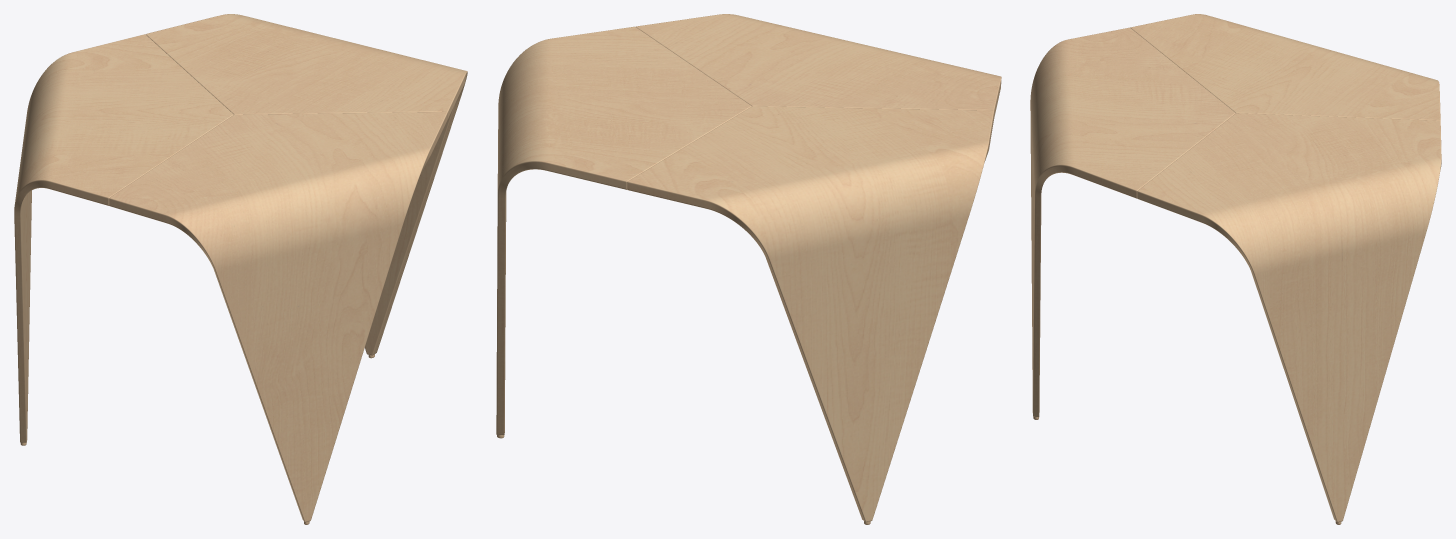
The model's file is ArtekTrienna.FBX.
3 renders of one model, left to right at view 1: azimuth 30°, elevation 25°; view 2: azimuth 150°, elevation 25°; view 3: azimuth 270°, elevation 25°, orthographic. The views are drawn at different scales.
Visible parts, largest first — view 1: TRIENNA TABLE; view 2: TRIENNA TABLE; view 3: TRIENNA TABLE.
Boxes of the visible parts, x1,y1,x2,y2 form: TRIENNA TABLE: [14, 14, 467, 524]; TRIENNA TABLE: [496, 14, 1001, 524]; TRIENNA TABLE: [1030, 14, 1441, 524].
Size of the model in its own units: 39.85 by 27.56 by 32.06.
